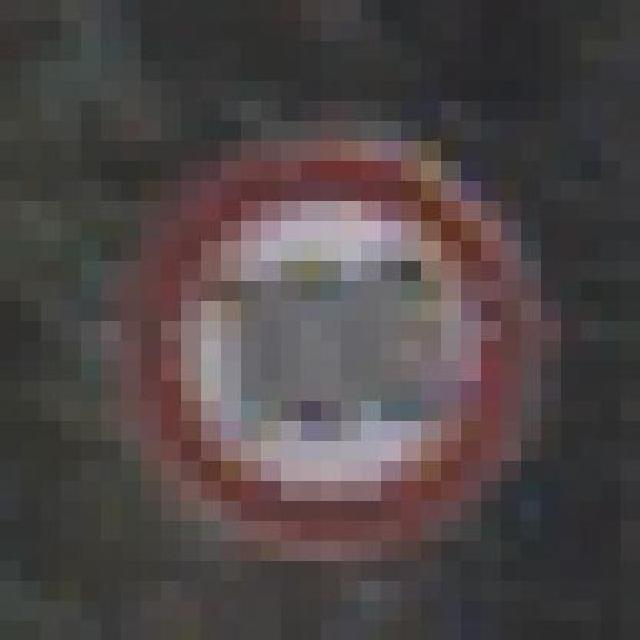forb_speed_over_100: (125, 143, 539, 560)
